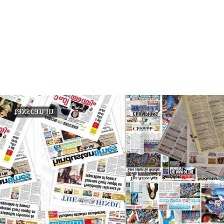news_paper: (125, 92, 224, 182), (152, 94, 224, 182), (36, 107, 125, 170), (47, 147, 125, 212), (126, 181, 223, 223), (35, 93, 116, 143), (0, 95, 38, 174), (180, 95, 224, 156), (0, 131, 40, 190), (183, 116, 224, 168), (0, 175, 42, 223), (46, 206, 124, 224)
